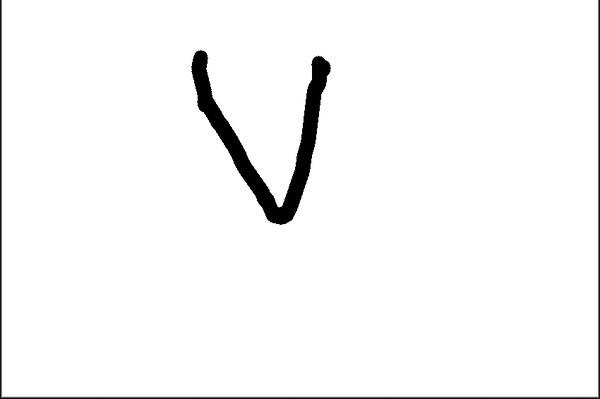V: (185, 46, 339, 229)
